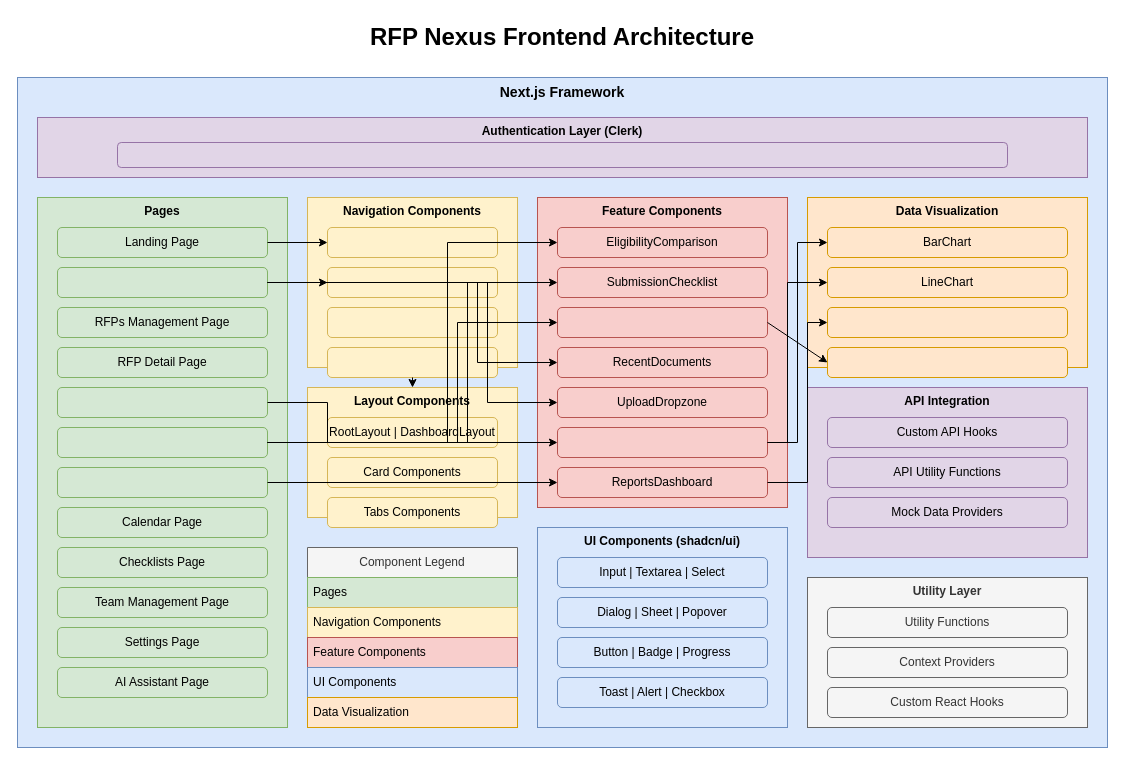
Image size: 1125x765. Some labels were removed from this diagram. Each missing label, with the centre of its shape:
Analysis Detail Page: point 162,442
Analyze RFP Page: point 162,402
Dashboard Page: point 162,282
DashboardHeader: point 412,322
DashboardNav: point 412,282
DashboardShell: point 412,362
HeatMap: point 947,362
LandingNav: point 412,242
PieChart: point 947,322
Reports Page: point 162,482
RfpAnalysisCharts: point 662,442
RiskHeatmap: point 662,322
SignInButton | SignUpButton | UserButton | useUser: point 562,155
